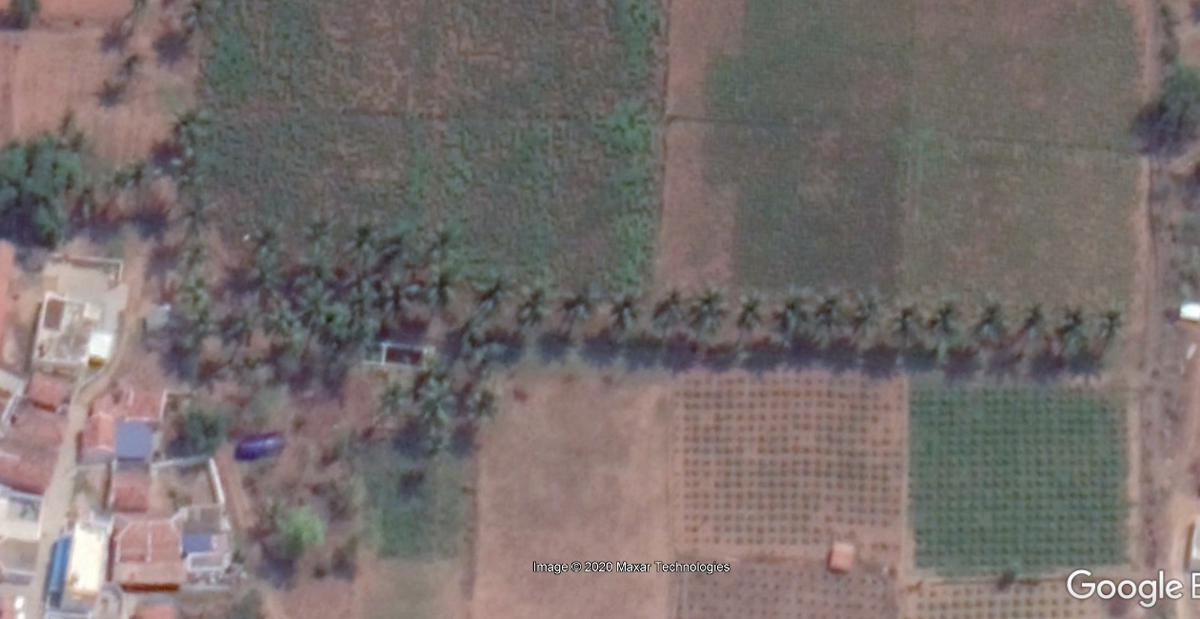coconut: (808, 278, 852, 352), (241, 211, 295, 265), (727, 281, 771, 345), (336, 205, 387, 259), (843, 285, 881, 355), (963, 281, 1008, 340), (361, 273, 420, 318), (923, 292, 963, 357), (413, 216, 468, 262), (162, 274, 217, 319), (256, 288, 304, 339), (686, 278, 726, 339), (773, 285, 813, 344), (409, 374, 459, 420), (369, 367, 411, 421), (646, 285, 691, 335), (605, 282, 645, 337), (1015, 298, 1053, 355), (465, 267, 509, 315), (1052, 302, 1089, 359), (889, 288, 923, 347), (1094, 296, 1127, 355), (516, 278, 554, 329), (170, 192, 215, 234), (558, 284, 596, 333), (299, 210, 337, 259), (418, 259, 458, 304), (161, 107, 208, 145), (222, 306, 260, 347), (464, 381, 502, 420)
